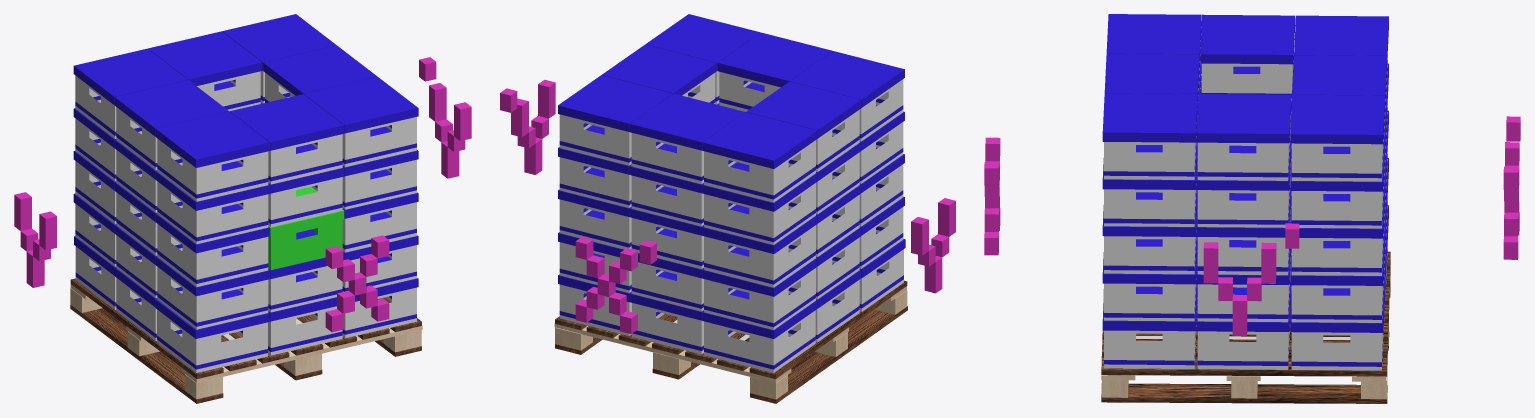
File: caja213.gltf
The picture shows the model from 3 angles, left to right: view 1: azimuth 30°, elevation 25°; view 2: azimuth 150°, elevation 25°; view 3: azimuth 270°, elevation 25°; orthographic projection. The views are drawn at different scales.
Visible parts, largest first — view 1: Cube.031_1, Cube.026_1, Cube.033_1, Cube.032_1, Cube.029_1, Cube.030_1, Cube.027_1, Cube.005_0, Cube.031_0, Cube.020_0, Cube.012_0, Cube.039_0 (+53 smaller); view 2: Cube.029_1, Cube.032_1, Cube.028_1, Cube.033_1, Cube.030_1, Cube.031_1, Cube.027_1, Cube.007_0, Cube.029_0, Cube.022_0, Cube.014_0, Cube.037_0 (+54 smaller); view 3: Cube.026_1, Cube.027_1, Cube.028_1, Cube.030_1, Cube055, Cube.031_1, Cube.032_1, Cube.029_1, Cube.033_1, Cube.003_0, Cube.002_0, Cube.001_0 (+32 smaller).
Part boxes in pixels (x1,y1,x2,y2): Cube.031_1: (155, 111, 269, 198); Cube.026_1: (304, 77, 418, 163); Cube.033_1: (230, 94, 344, 181); Cube.032_1: (148, 31, 262, 109); Cube.029_1: (73, 48, 187, 135); Cube.030_1: (114, 80, 228, 166); Cube.027_1: (263, 45, 377, 102); Cube.005_0: (157, 309, 267, 372); Cube.031_0: (157, 138, 268, 201); Cube.020_0: (157, 224, 268, 286); Cube.012_0: (157, 267, 268, 329); Cube.039_0: (157, 181, 268, 244); Cube.029_1: (702, 112, 817, 199); Cube.032_1: (630, 93, 745, 180); Cube.028_1: (558, 75, 672, 162); Cube.033_1: (717, 32, 832, 109); Cube.030_1: (746, 81, 861, 168); Cube.031_1: (790, 51, 904, 138); Cube.027_1: (602, 44, 716, 103); Cube.007_0: (704, 310, 815, 372); Cube.029_0: (704, 140, 815, 202); Cube.022_0: (704, 225, 815, 287); Cube.014_0: (704, 268, 815, 329); Cube.037_0: (704, 183, 815, 244); Cube.026_1: (1102, 93, 1197, 176); Cube.027_1: (1196, 94, 1291, 177); Cube.028_1: (1290, 94, 1385, 178); Cube.030_1: (1200, 14, 1295, 98); Cube055: (1101, 383, 1387, 403); Cube.031_1: (1106, 14, 1201, 93); Cube.032_1: (1292, 55, 1386, 138); Cube.029_1: (1294, 15, 1388, 98); Cube.033_1: (1104, 53, 1199, 101); Cube.003_0: (1291, 328, 1383, 370); Cube.002_0: (1197, 324, 1289, 369); Cube.001_0: (1104, 325, 1196, 368).
Size of the model in its own units: 4.24 by 2.33 by 4.23.
82 materials, 2 textured.
